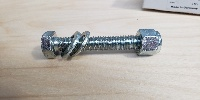FinishedAssembly: (35, 28, 165, 59)
